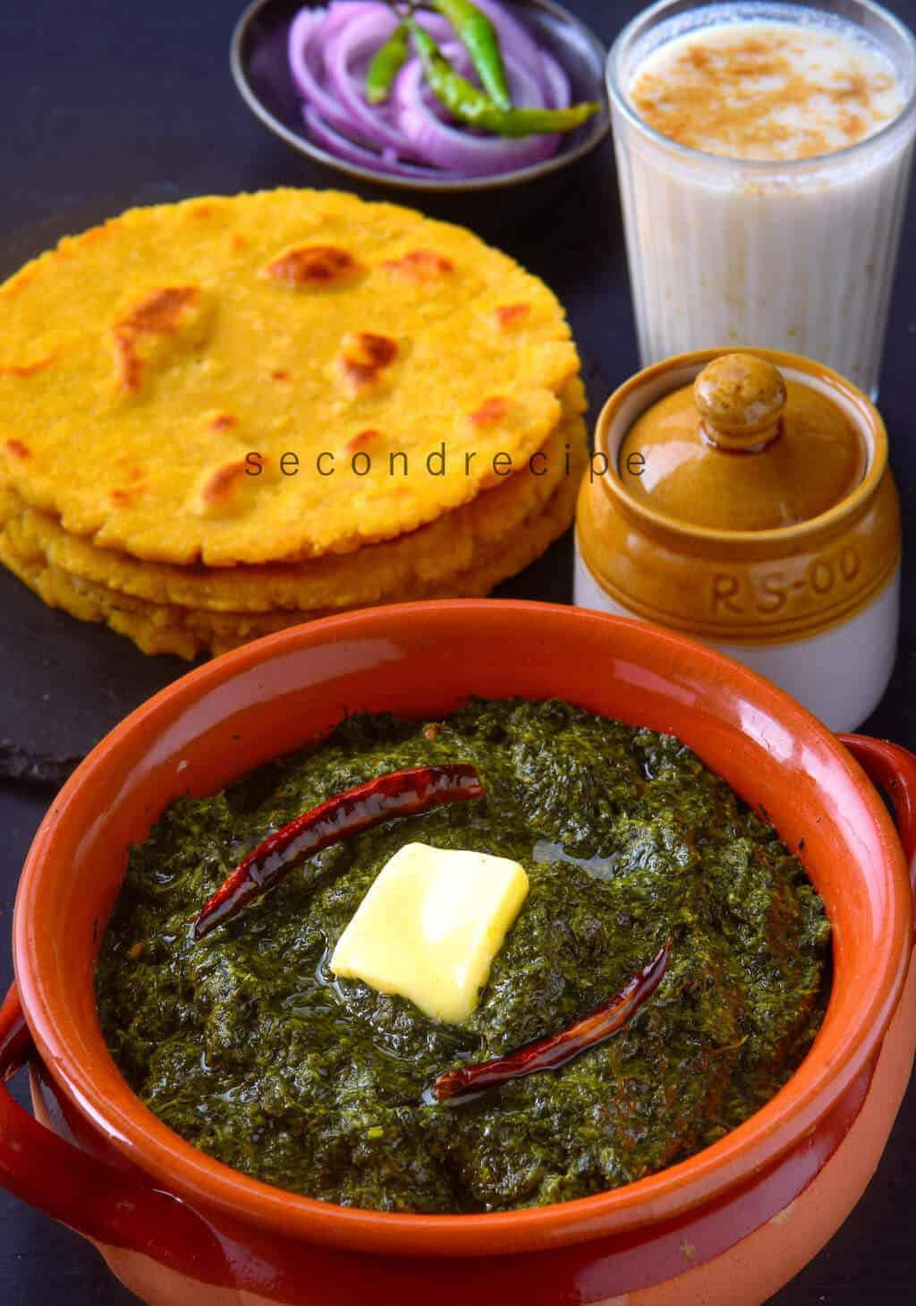Naan: (72, 658, 862, 1192)
